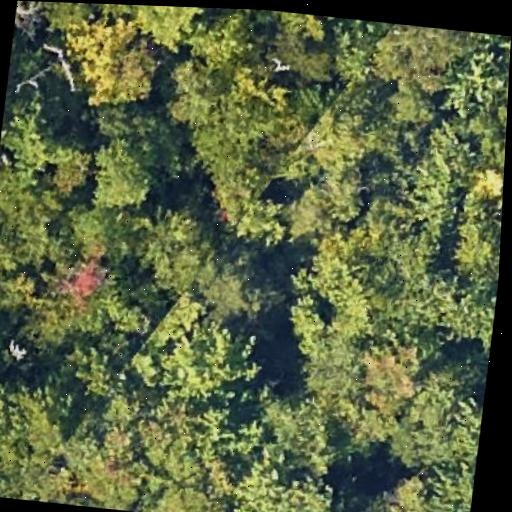tree-top: (122, 389, 240, 489), (144, 316, 263, 411), (391, 359, 488, 475), (59, 13, 173, 111), (24, 252, 128, 351), (0, 377, 79, 499), (67, 408, 154, 512), (0, 160, 64, 289), (201, 170, 295, 257), (300, 229, 388, 321), (82, 126, 169, 216), (137, 205, 222, 297), (193, 95, 270, 194), (304, 86, 388, 174), (406, 120, 468, 237), (367, 22, 467, 92), (158, 45, 238, 132), (353, 331, 437, 412), (278, 166, 363, 246), (0, 88, 79, 174), (253, 384, 338, 463), (194, 249, 276, 328), (228, 462, 348, 512), (440, 190, 503, 285), (373, 460, 472, 512), (375, 76, 443, 137), (268, 29, 337, 88), (131, 5, 210, 56), (69, 346, 129, 406), (207, 8, 267, 62), (54, 199, 106, 257), (5, 24, 42, 105), (0, 321, 2, 409)
